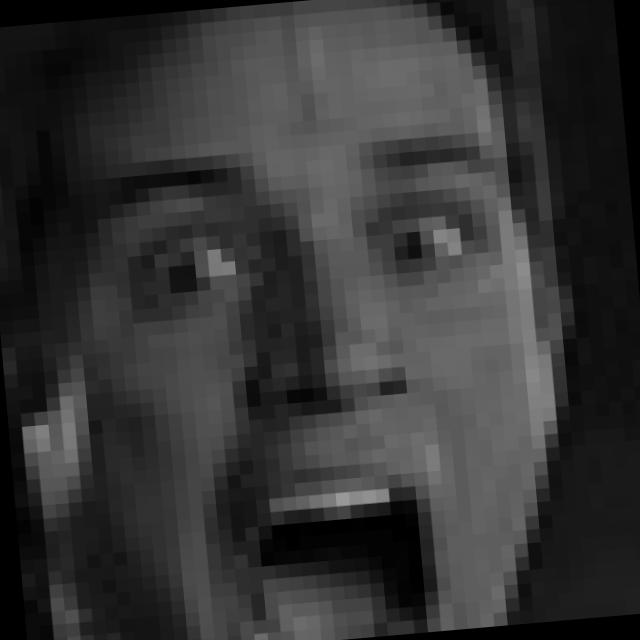fear: (86, 125, 526, 640)
